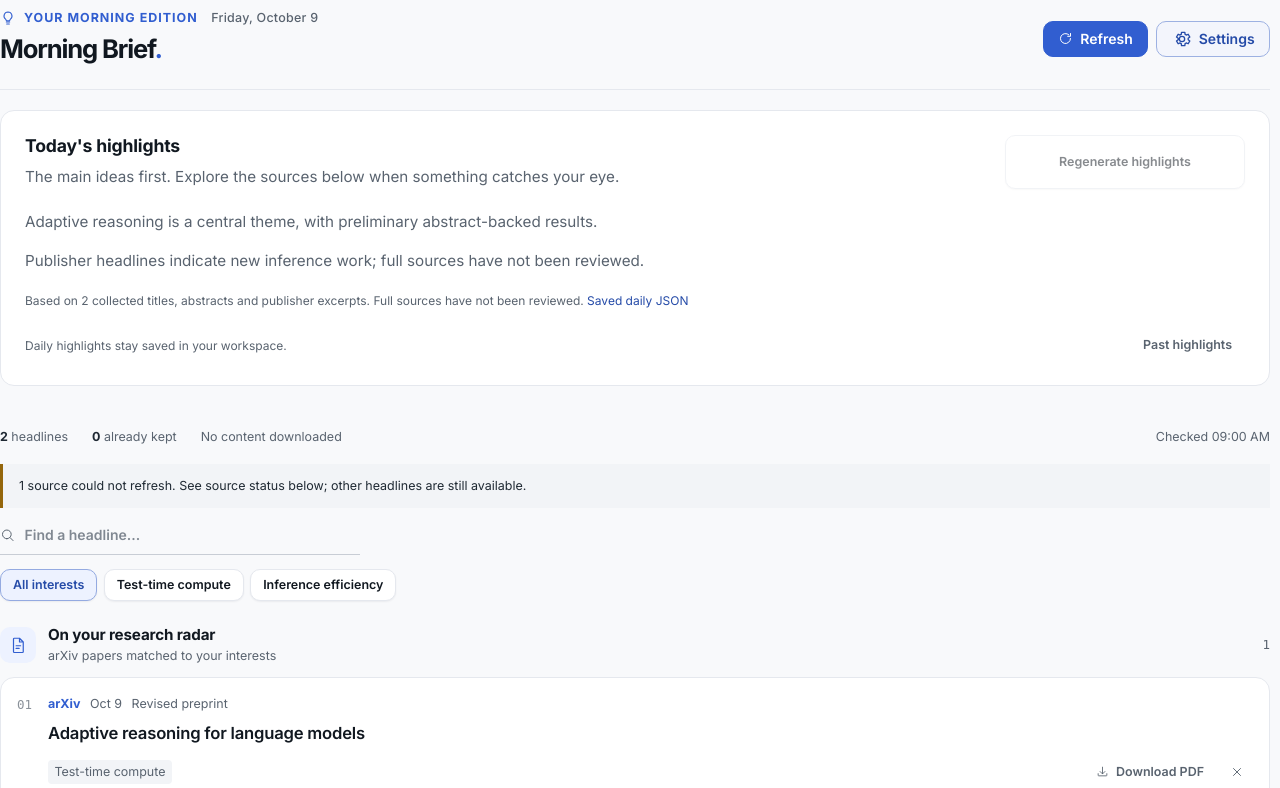
Test case: shows cached highlights before sources without generating again and keeps the daily archive after clearing
Expected: the element with class "brief-highlights" shows "Adaptive reasoning is a central theme", x1=25 y1=212 x2=597 y2=231
What coordinates should you click on to do the following:
click the button with aria-label "Brief settings"
I would click on:
 (1213, 38)
Its box is x1=1156 y1=20 x2=1270 y2=56.
(page scrolled)
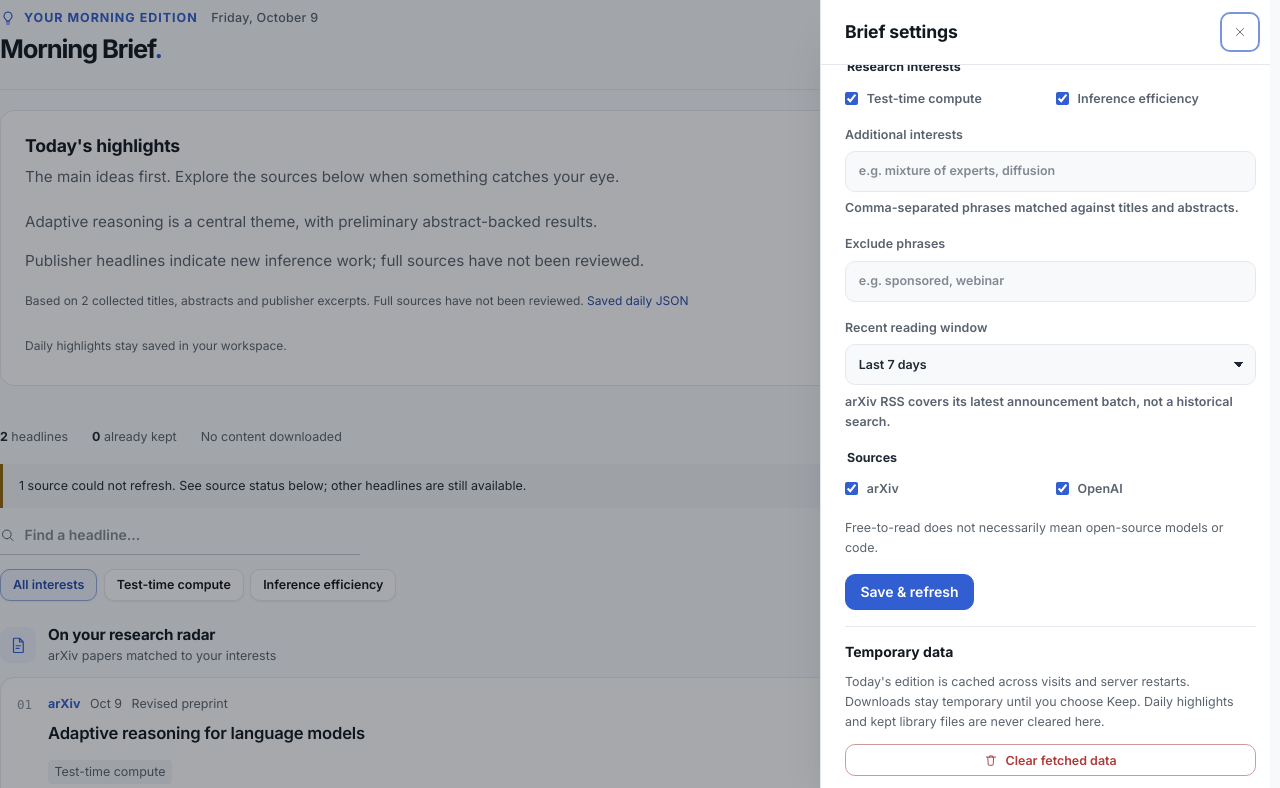
What coordinates should you click on to do the following:
click the button "Clear fetched data"
I would click on:
 (1050, 760)
Its box is x1=845 y1=744 x2=1256 y2=776.
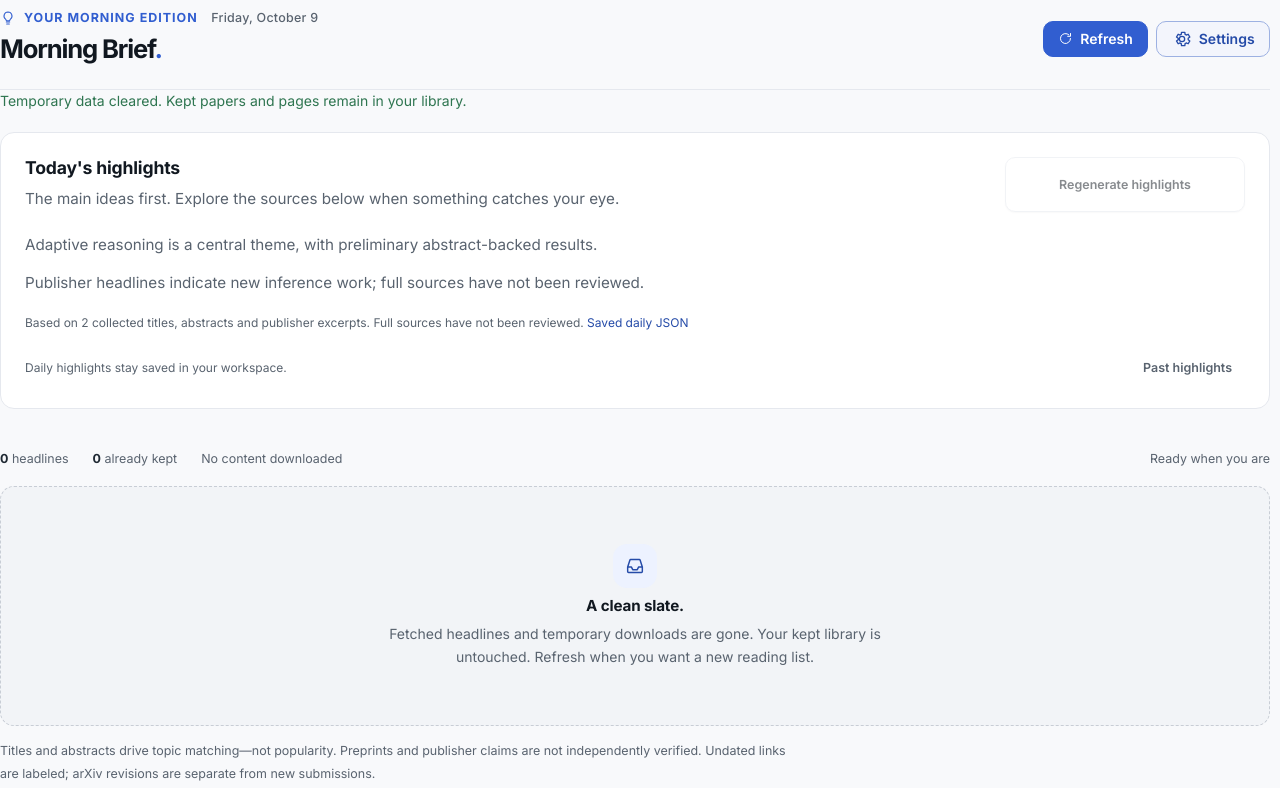
Expected: the text "Adaptive reasoning is a central theme" is shown, x1=25 y1=235 x2=597 y2=254
Expected: the text "Adaptive reasoning for language models" is gone
What coordinates should you click on to do the following:
click the button "Past highlights"
I would click on:
 (1188, 368)
Its box is x1=1130 y1=352 x2=1245 y2=384.
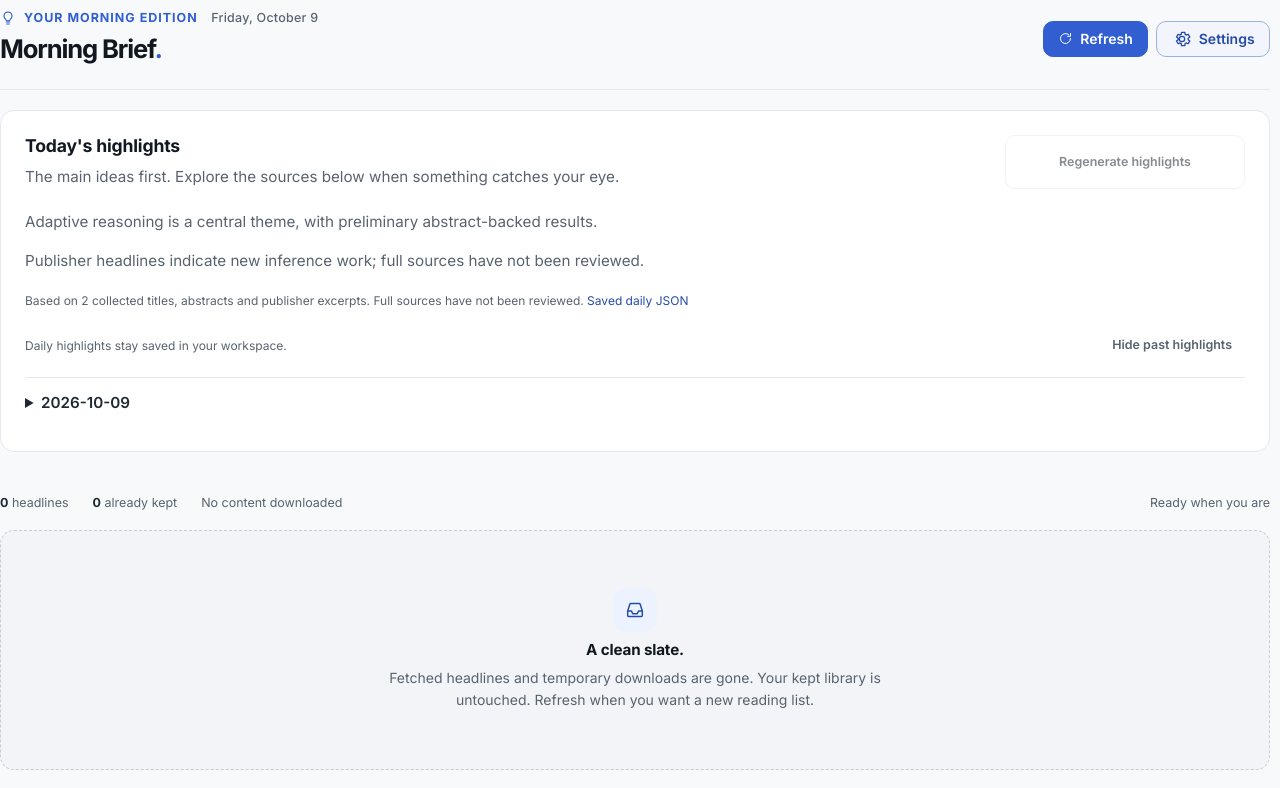
Expected: the element named "Past highlights" reads "2026-10-09", x1=41 y1=393 x2=130 y2=412
